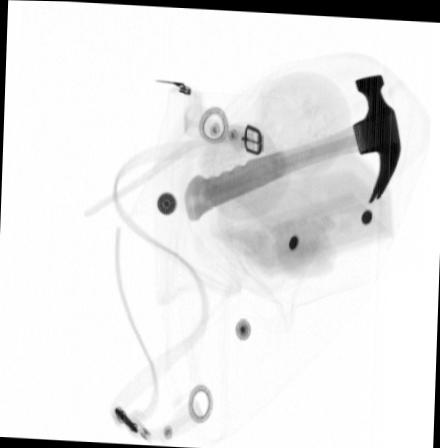Hammer: (183, 71, 401, 220)
